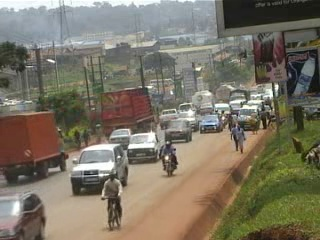Car: (68, 141, 129, 196), (0, 188, 51, 239), (163, 117, 194, 146), (105, 125, 134, 150), (199, 110, 225, 137), (174, 109, 201, 132), (196, 100, 215, 118)
Motorcycle: (157, 141, 179, 181), (217, 110, 228, 128), (207, 107, 220, 120)
